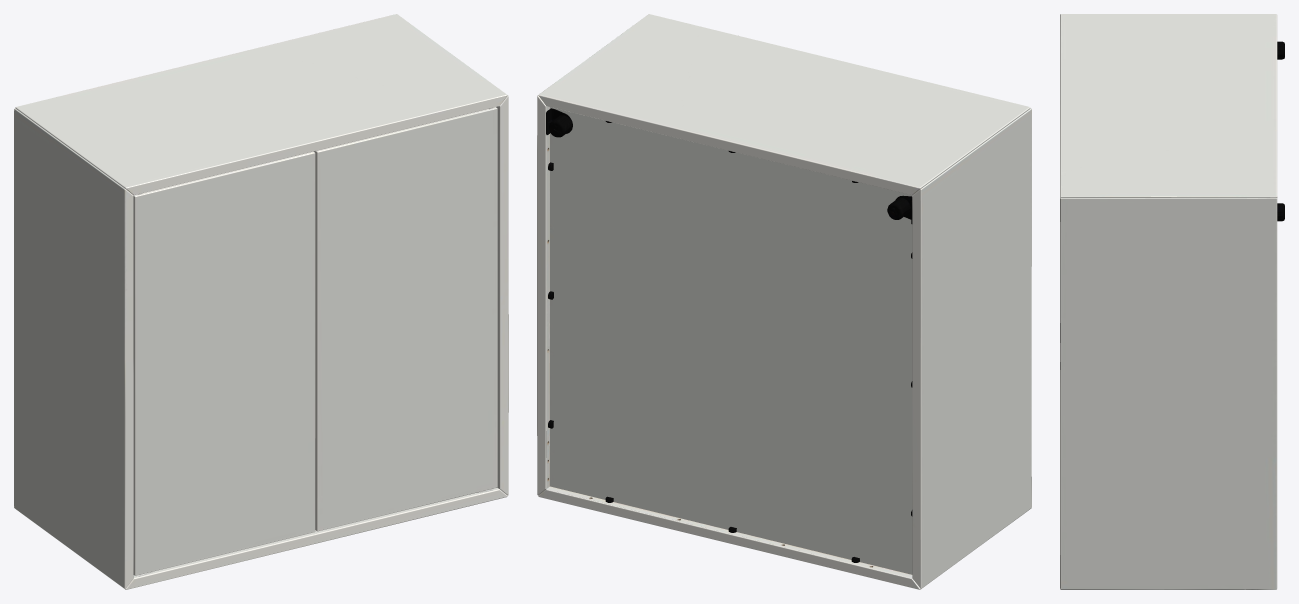
File: eket_szafka_z_2_drzwi_i_1_poka_20333951.glb
3 renders of one model, left to right at view 1: azimuth 30°, elevation 25°; view 2: azimuth 150°, elevation 25°; view 3: azimuth 270°, elevation 25°, orthographic. The views are drawn at different scales.
Parts seen in each view (by area): view 1: eket_szafka_z_2_drzwi_i_1_poka_20333951; view 2: eket_szafka_z_2_drzwi_i_1_poka_20333951; view 3: eket_szafka_z_2_drzwi_i_1_poka_20333951.
Boxes of the visible parts, x1,y1,x2,y2 form: eket_szafka_z_2_drzwi_i_1_poka_20333951: (14, 14, 508, 589); eket_szafka_z_2_drzwi_i_1_poka_20333951: (537, 14, 1031, 589); eket_szafka_z_2_drzwi_i_1_poka_20333951: (1060, 14, 1284, 589).
Bounding box in the file's own units: 0.7 × 0.7 × 0.3621.
1 material, 1 textured.
